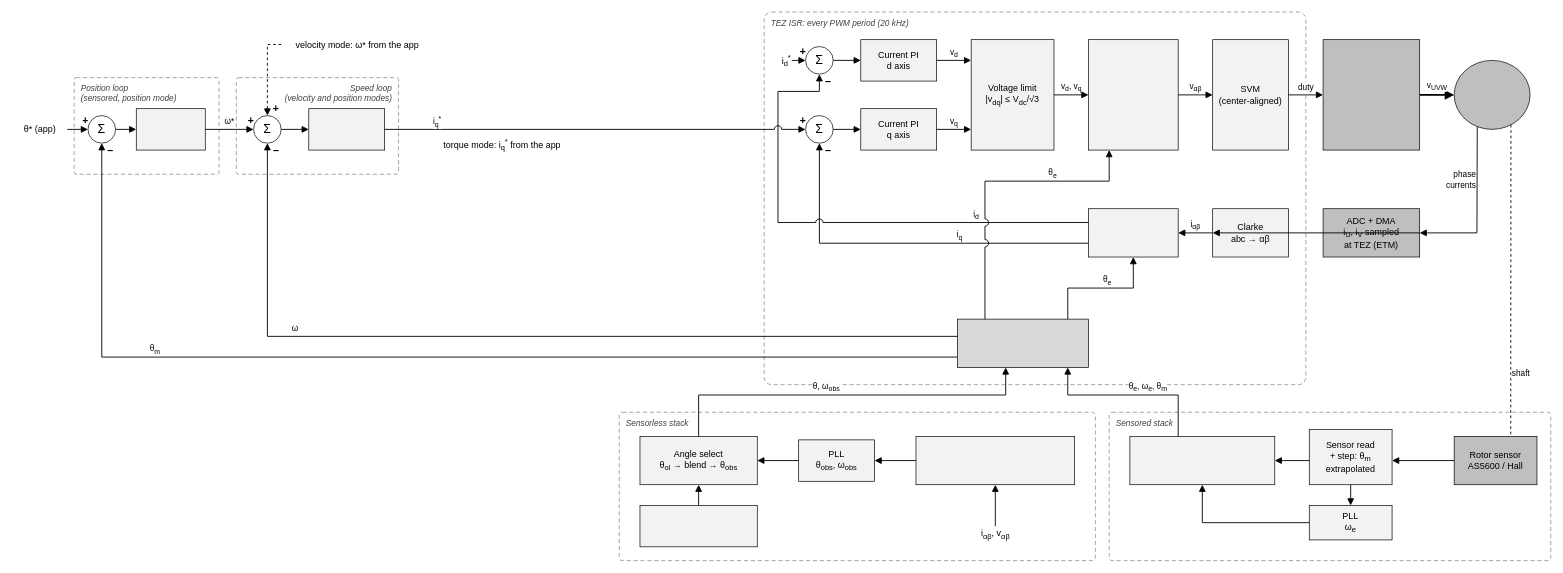
Image size: 1563x573. Some labels were removed from this diagram. Here are the shapes that lost their labels. From the top down, the centre of each, then its label:
(1133,94): Inverse Park dq → αβ
(1371,94): MCPWM + inverter 6 PWM, dead time
(1491,94): PMSM
(170,129): Position P
(346,129): Speed PI
(1133,232): Park αβ → dq
(1022,342): Angle and speed source (the stack you built)
(995,460): Flux observer ψ s = ∫(v − R·i) dt − L·i
(1202,460): θ e = pp·θ m + offset + ω e ·lead
(698,526): I-f start-up θ ol , open loop
